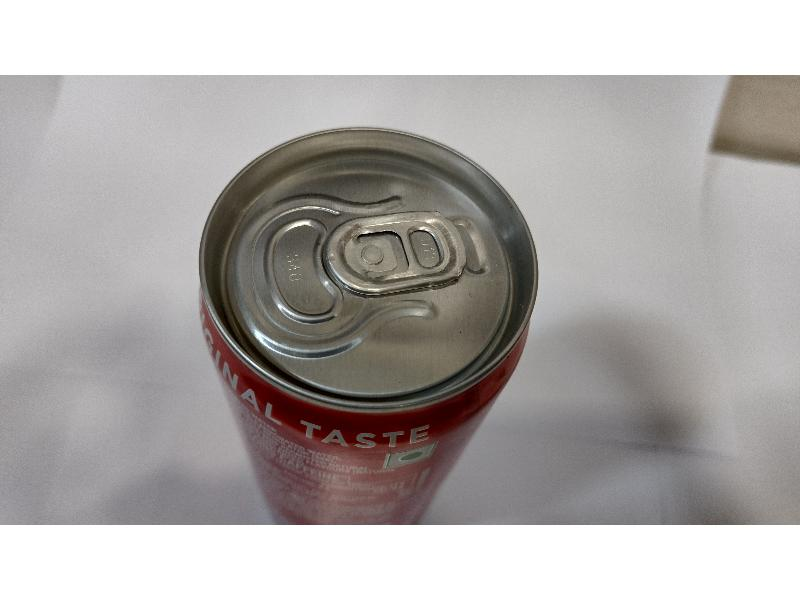can: (194, 116, 539, 521)
